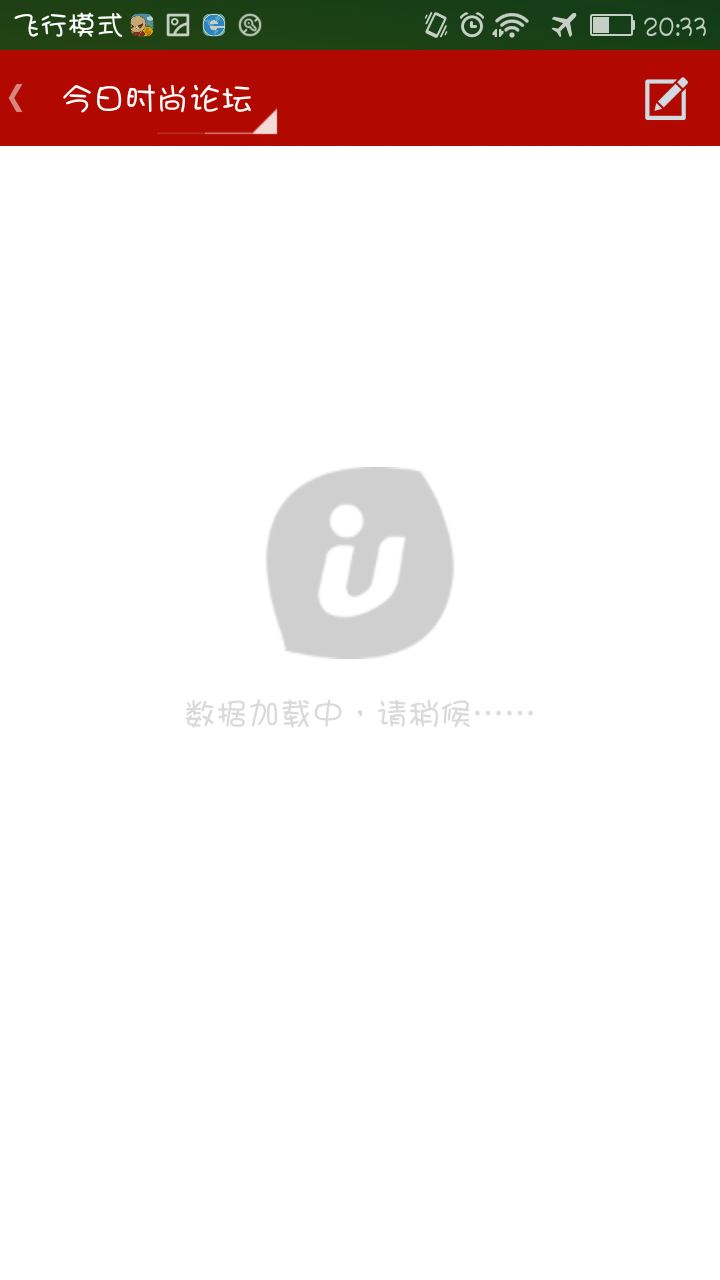imgview: (156, 430, 535, 701)
